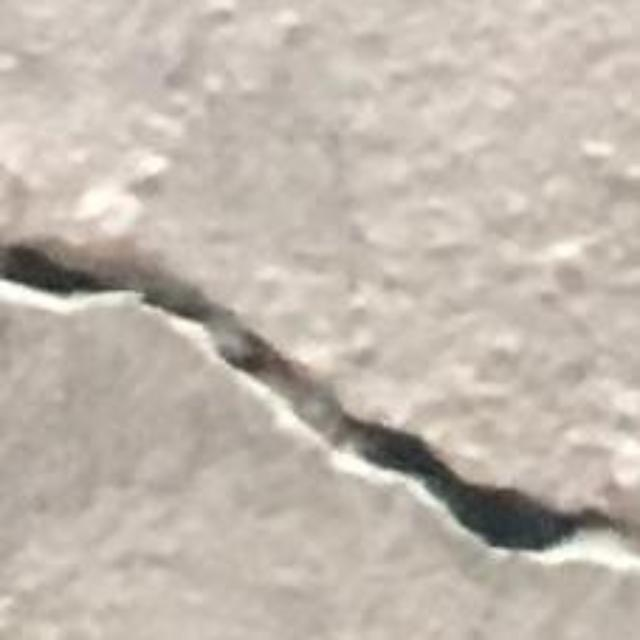crack: (0, 243, 639, 572)
